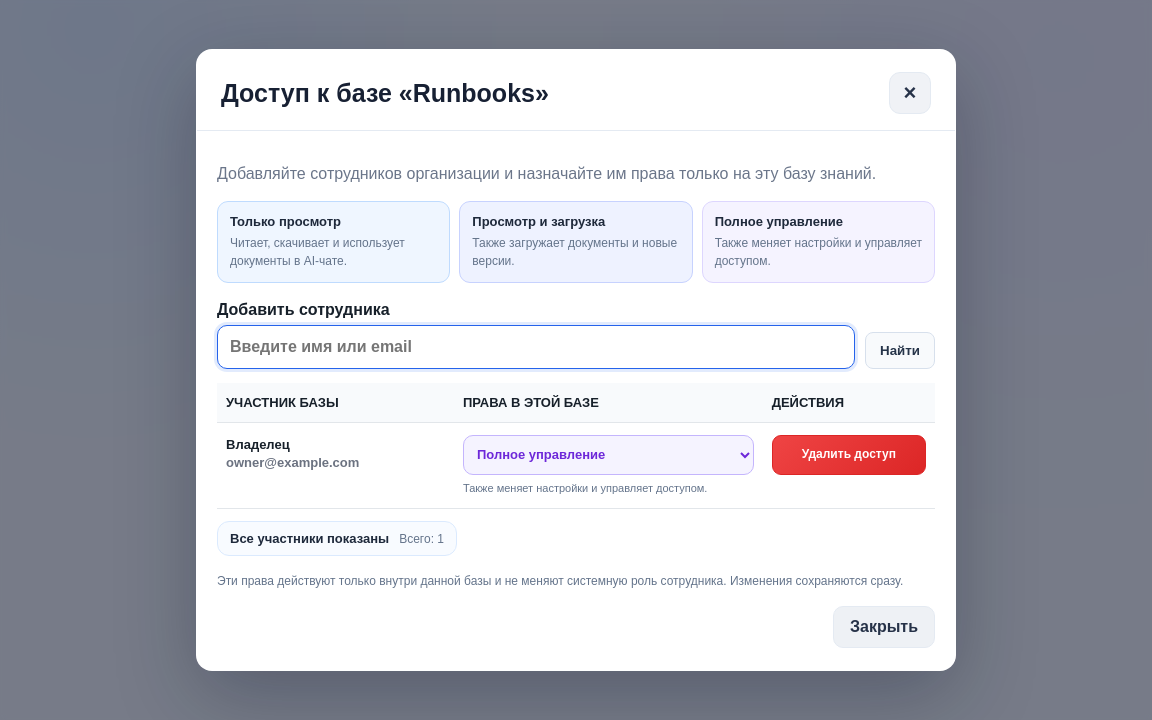
Test: KnowledgeMembersModal — конкурентность и ACL › не принимает опоздавший результат старого поиска кандидатов
Expected: the text "Владелец" is shown, left=226, top=437, right=290, bottom=452
Step 1. Type "old" into the field named "Имя или email сотрудника" → x=536, y=347, box left=217, top=325, right=855, bottom=369
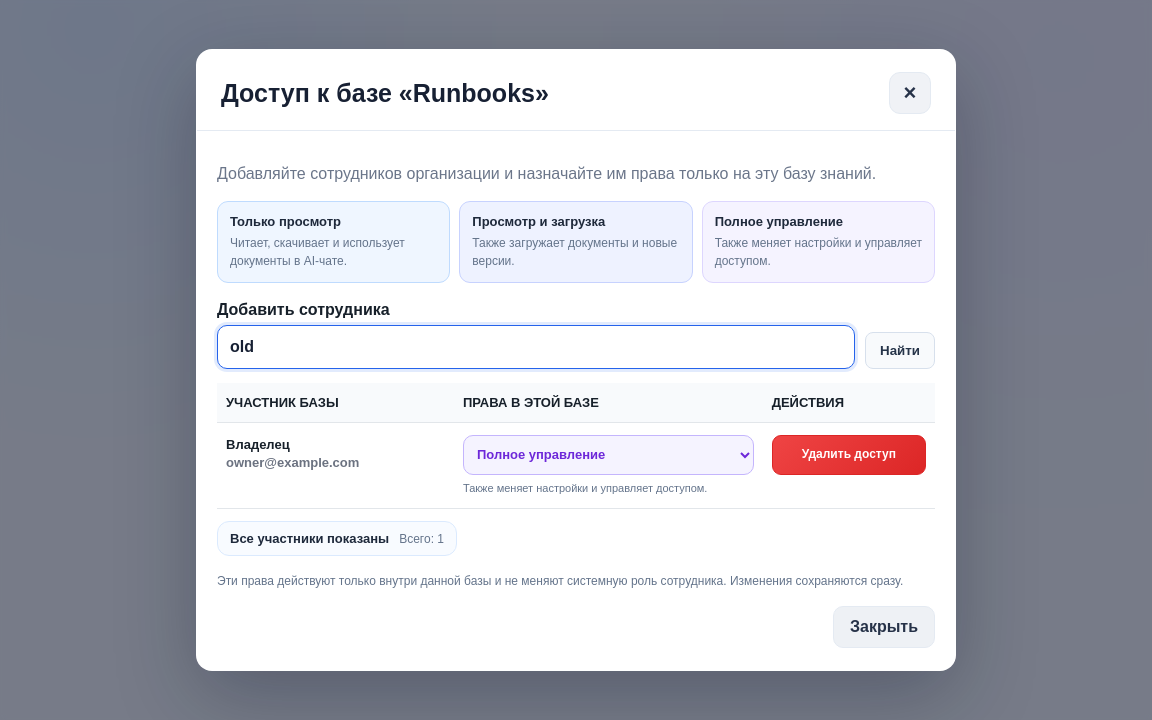
Step 2. Click the button "Найти" → x=900, y=350, box left=865, top=332, right=935, bottom=369
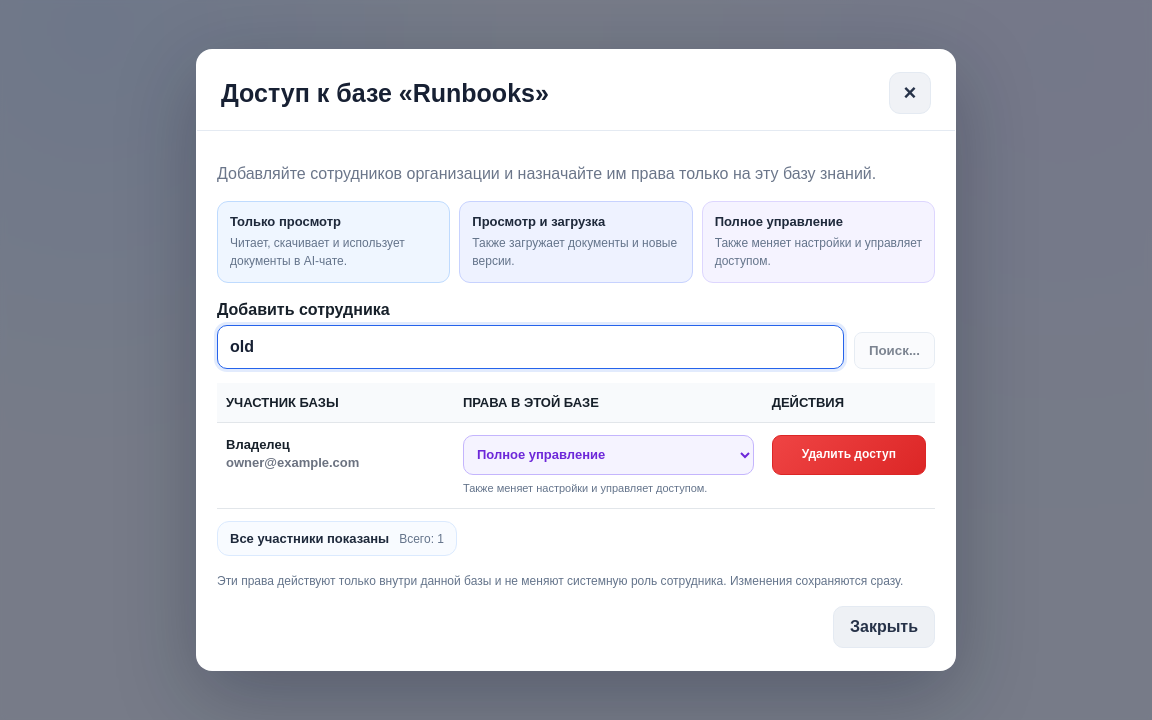
Step 3. Replace the text in the field named "Имя или email сотрудника" with "new" → x=530, y=347, box left=217, top=325, right=844, bottom=369
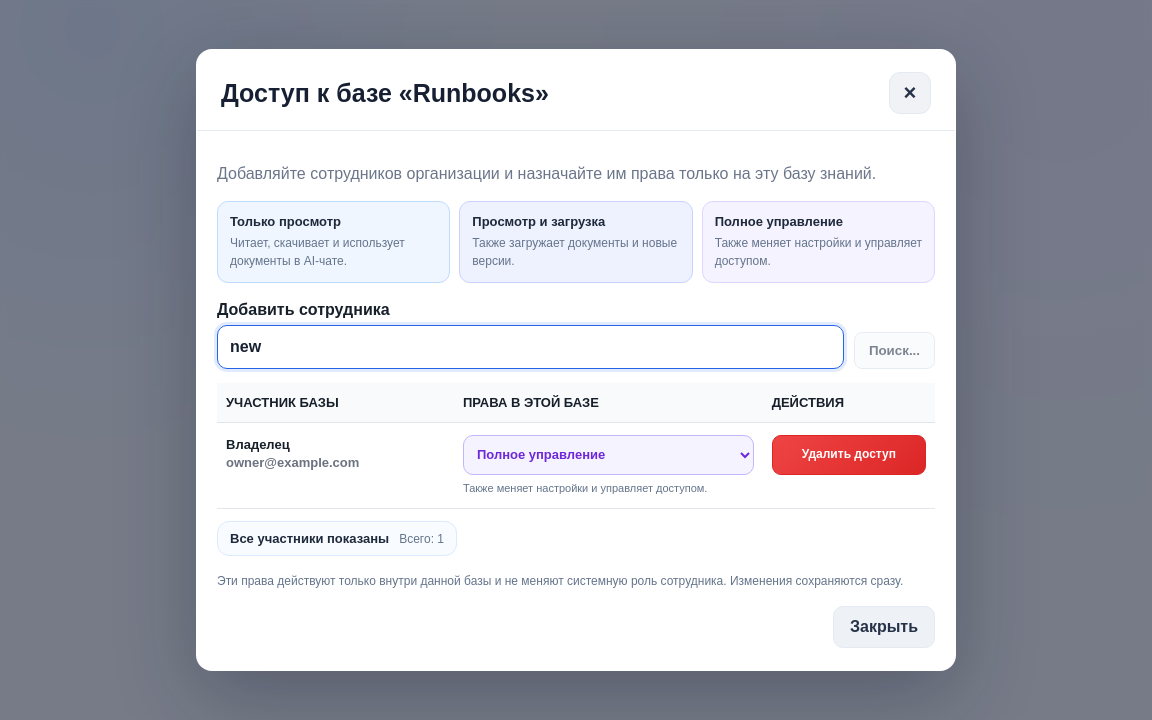
// Повторный поиск запускается Enter даже при ожидании предыдущего ответа.
Step 4. Press Enter in the field named "Имя или email сотрудника", box left=217, top=325, right=844, bottom=369
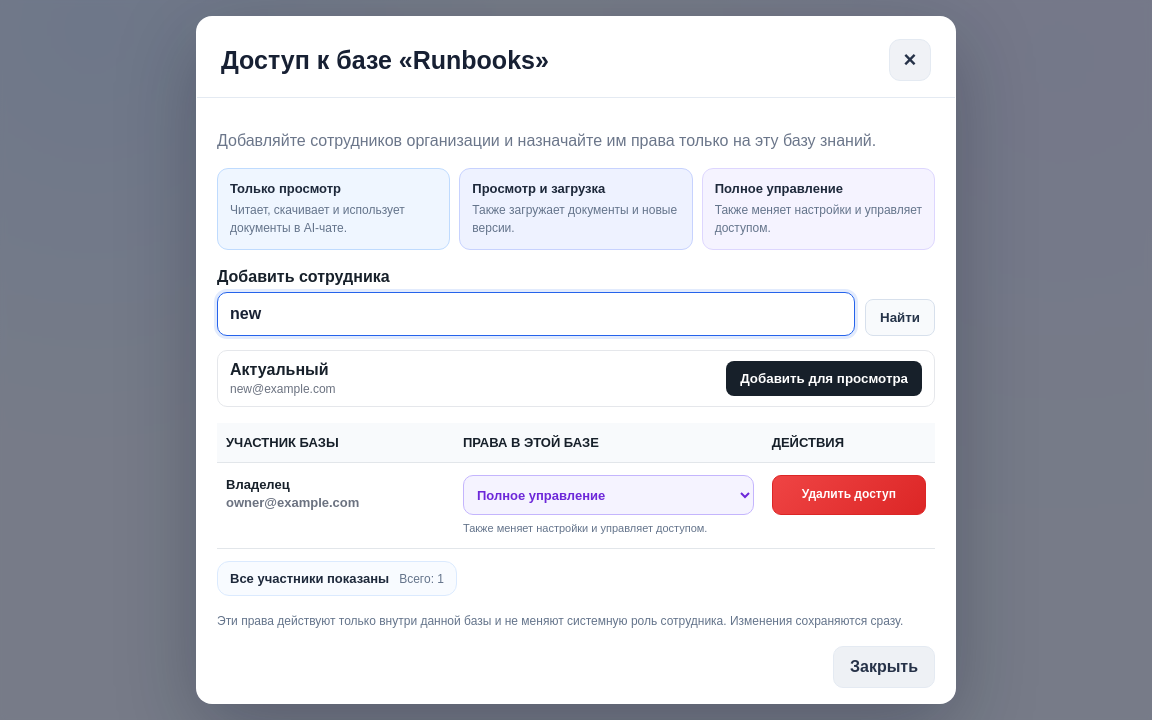
Result: the text "Актуальный" is shown at left=230, top=361, right=336, bottom=379
